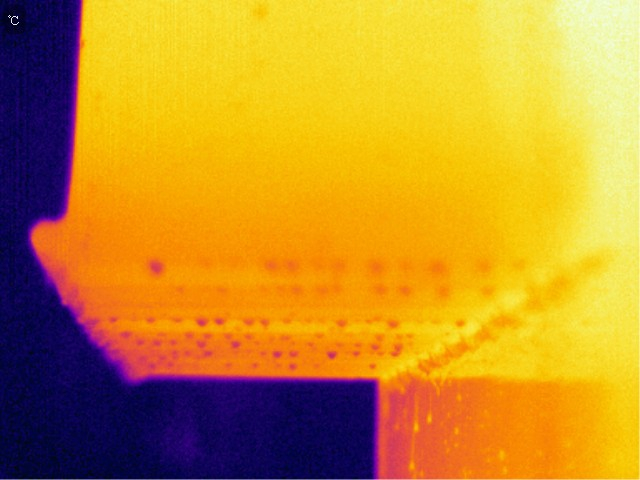Water: (387, 342, 410, 360), (238, 316, 273, 327), (146, 258, 166, 276), (331, 315, 356, 329), (383, 317, 406, 328), (324, 348, 344, 360), (228, 338, 245, 352), (192, 313, 207, 328), (212, 314, 228, 328), (284, 348, 302, 359), (148, 336, 164, 348), (364, 360, 381, 371), (367, 340, 382, 351), (199, 331, 217, 340), (287, 363, 303, 373), (118, 329, 133, 339), (177, 331, 193, 340), (193, 338, 206, 348), (271, 349, 282, 360), (203, 350, 217, 358)
